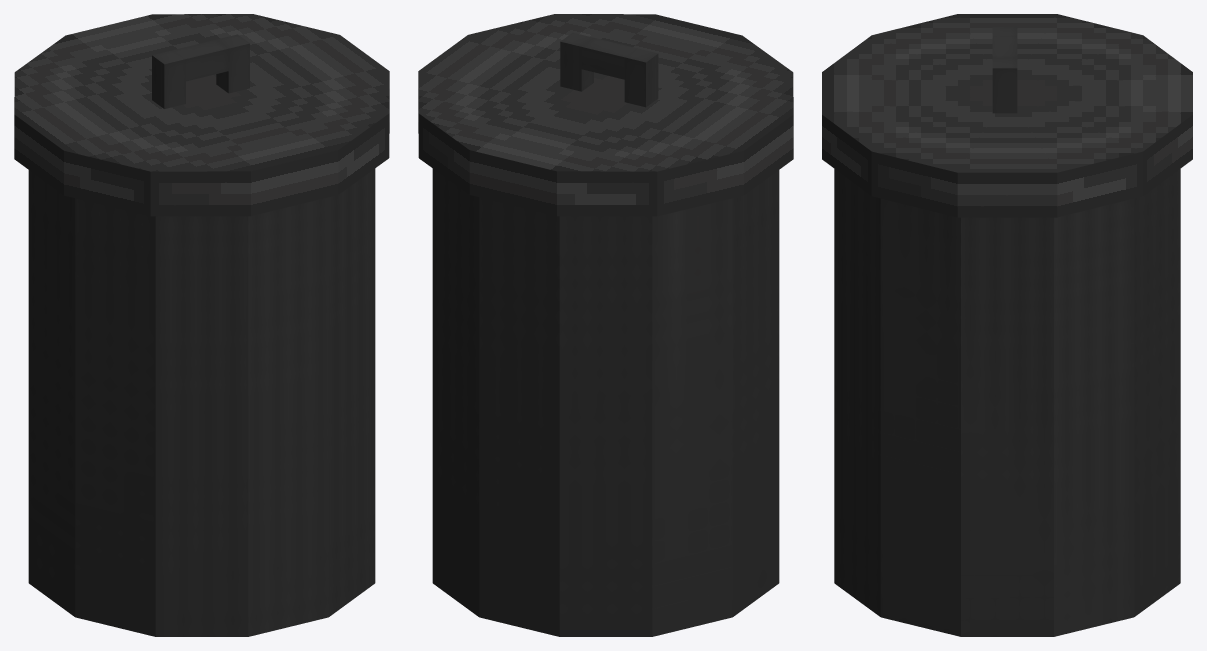
The model's file is trashcan.obj.
The picture shows the model from 3 angles, left to right: view 1: azimuth 30°, elevation 25°; view 2: azimuth 150°, elevation 25°; view 3: azimuth 270°, elevation 25°; orthographic projection.
Visible parts, largest first — view 1: cylinder, cube; view 2: cylinder, cube; view 3: cylinder, cube.
Boxes of the visible parts, x1=… form: cylinder: x1=14, y1=14, x2=389, y2=636; cube: x1=152, y1=34, x2=249, y2=108; cylinder: x1=418, y1=14, x2=793, y2=636; cube: x1=560, y1=32, x2=658, y2=107; cylinder: x1=822, y1=14, x2=1192, y2=636; cube: x1=992, y1=26, x2=1017, y2=113.
Bounding box in the file's own units: 0.95 × 1.44 × 0.9375.
